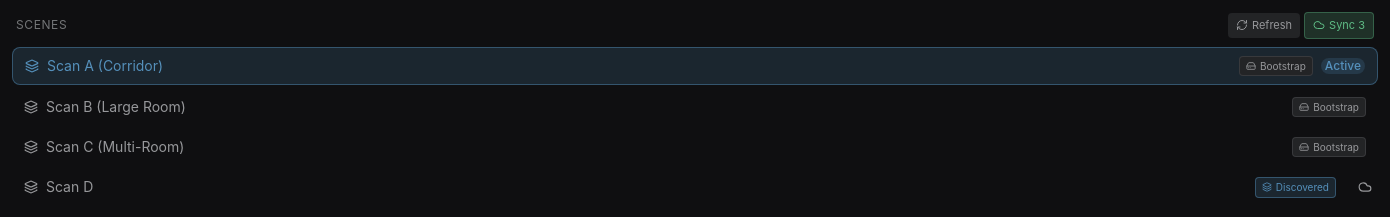
Scenario: official scene maintainer workflow › successful sync transitions discovered scene to Cloud and removes sync button
The image size is (1390, 217).
Expected: the element with test id "scene-sync-state-scan-d" reads "Discovered", [1276,181,1329,193]
Click the button with test id "sync-scene-button-scan-d" at (1365, 188), box [1352,174,1378,200]
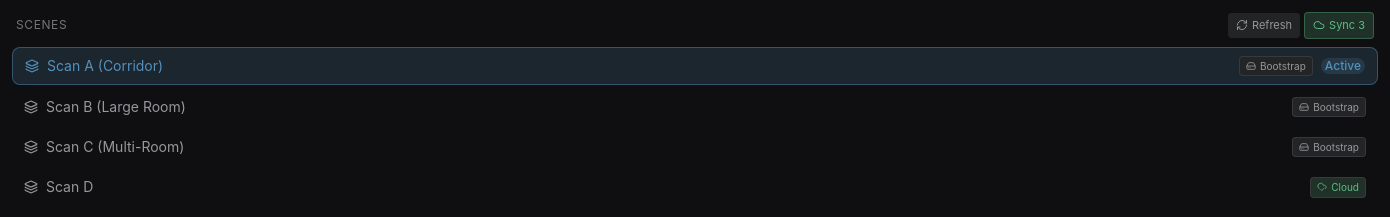
Result: the element with test id "scene-sync-state-scan-d" reads "Cloud" at [1331,181,1359,193]
